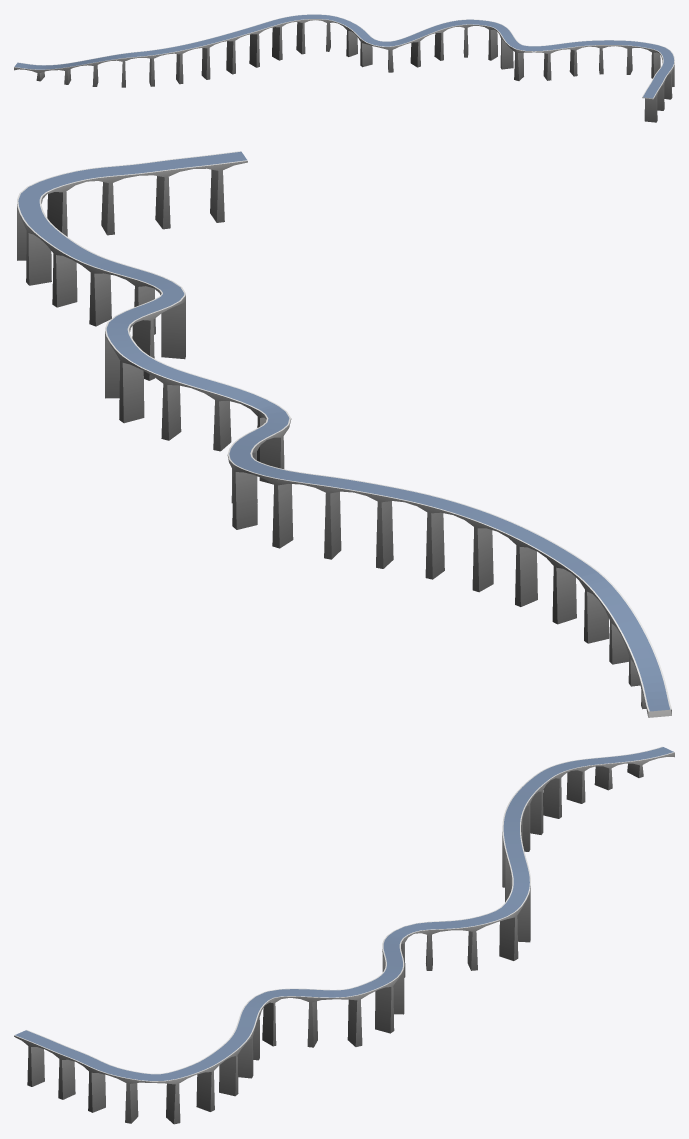
Rendered from BridgeRoad.fbx.
3 renders of one model, top to bottom at view 1: azimuth 30°, elevation 25°; view 2: azimuth 150°, elevation 25°; view 3: azimuth 270°, elevation 25°, orthographic. The views are drawn at different scales.
Parts seen in each view (by area): view 1: BridgeRoad; view 2: BridgeRoad; view 3: BridgeRoad.
Part boxes in pixels (x1,y1,x2,y2): BridgeRoad: [14, 14, 674, 122]; BridgeRoad: [17, 151, 671, 717]; BridgeRoad: [14, 746, 674, 1124].
Size of the model in its own units: 6.03 by 0.4283 by 4.61.
Materials: 1 (1 with a texture image).
